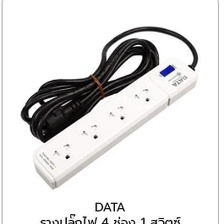three_eye_plug: (32, 56, 199, 191)
